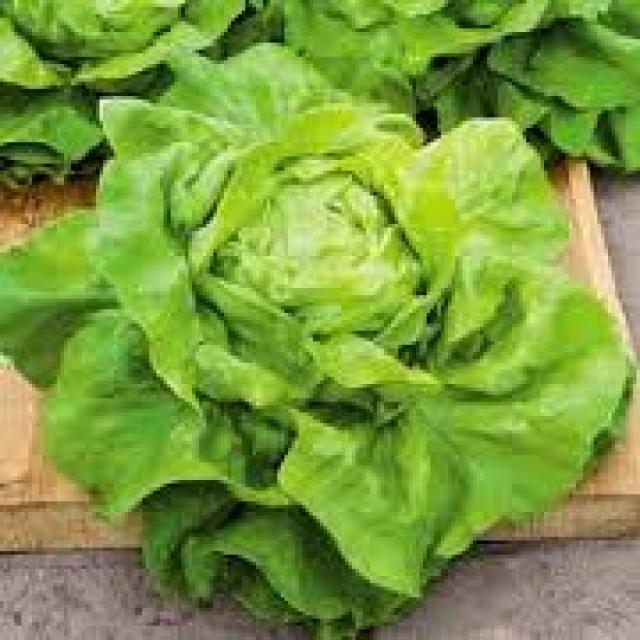Lettuce head: (3, 84, 622, 610)
